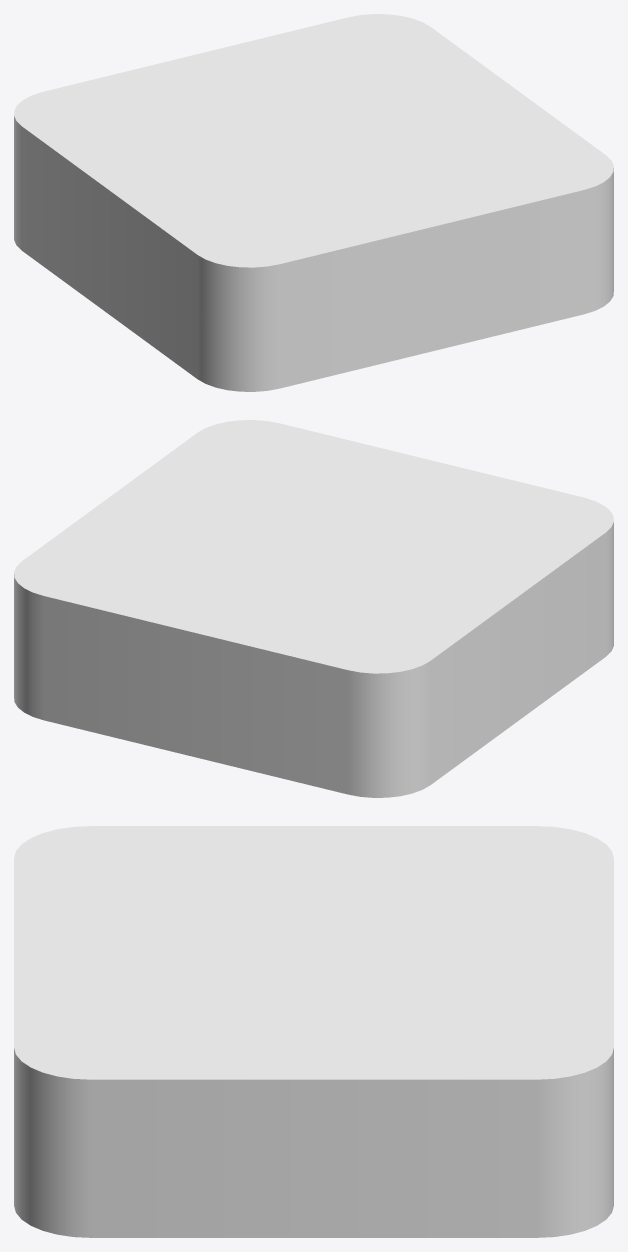
The model's file is Platform.fbx.
3 renders of one model, top to bottom at view 1: azimuth 30°, elevation 25°; view 2: azimuth 150°, elevation 25°; view 3: azimuth 270°, elevation 25°, orthographic. The views are drawn at different scales.
Visible parts, largest first — view 1: Platform; view 2: Platform; view 3: Platform.
Part boxes in pixels (x1,y1,x2,y2): Platform: [14, 14, 613, 391]; Platform: [14, 420, 613, 797]; Platform: [14, 826, 613, 1237].
Size of the model in its own units: 200 by 58.2 by 200.
